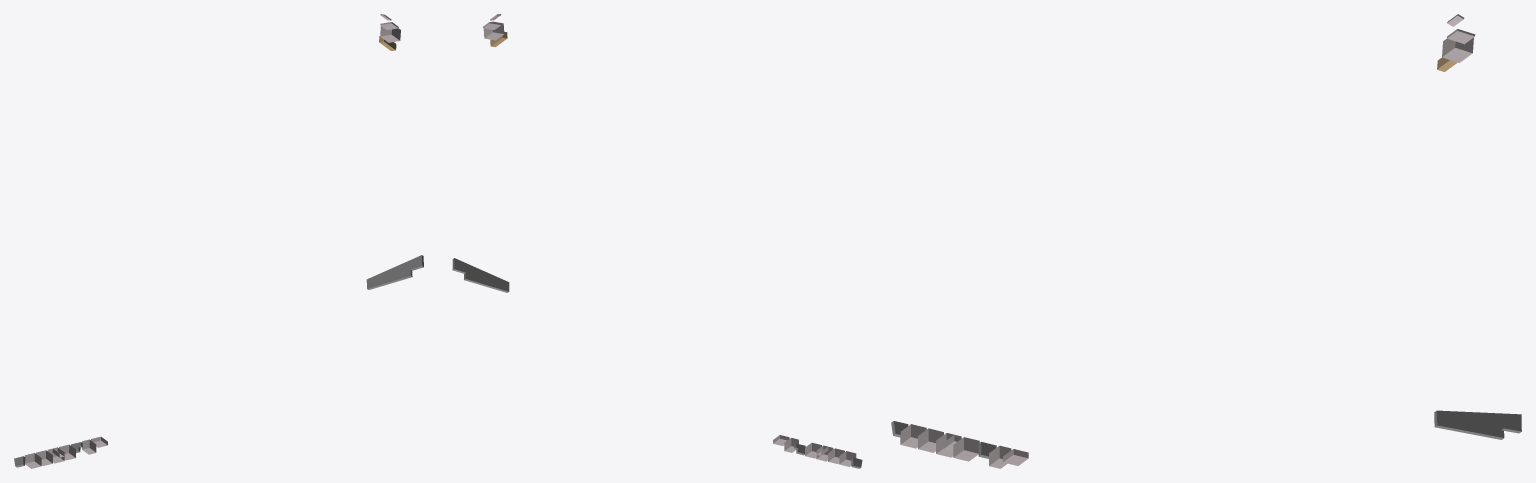
3 views of the same model, side by side, from view 1: azimuth 30°, elevation 25°; view 2: azimuth 150°, elevation 25°; view 3: azimuth 330°, elevation 25° (orthographic). The views are drawn at different scales.
Visible parts, largest first — view 1: 0_2_2_0_0; view 2: 0_2_2_0_0; view 3: 0_2_2_0_0.
Boxes of the visible parts, left/top/right/bottom form: 0_2_2_0_0: left=14, top=14, right=423, bottom=468; 0_2_2_0_0: left=452, top=14, right=862, bottom=468; 0_2_2_0_0: left=891, top=14, right=1521, bottom=468.
Size of the model in its own units: 410 by 348 by 21.01.
